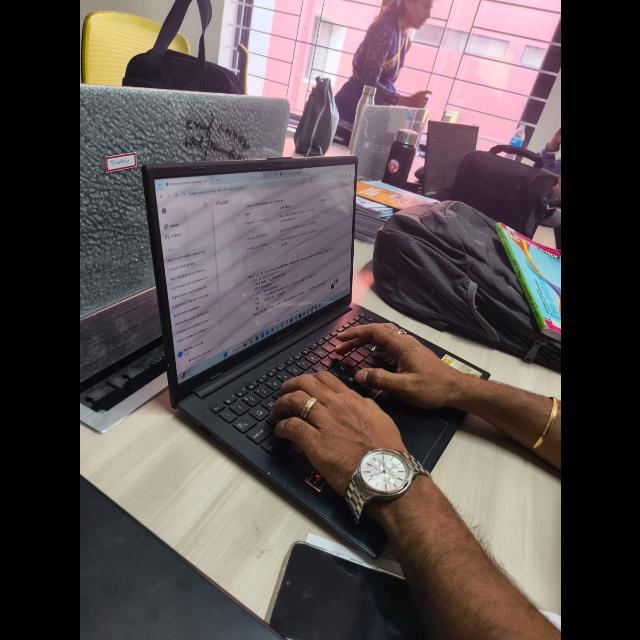laptop: (126, 141, 448, 547)
